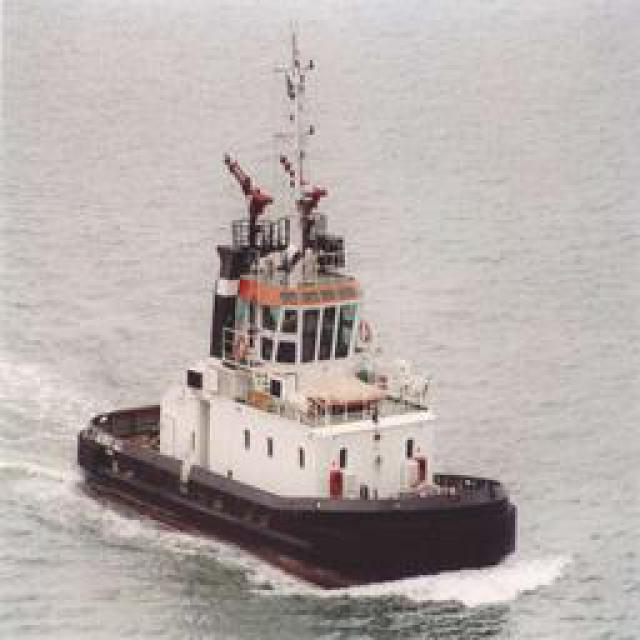Ship: (80, 54, 510, 587)
